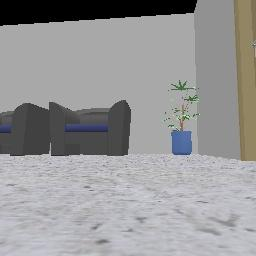fotoliu: (50, 100, 130, 155), (0, 103, 48, 153)
planta: (163, 80, 199, 154)
